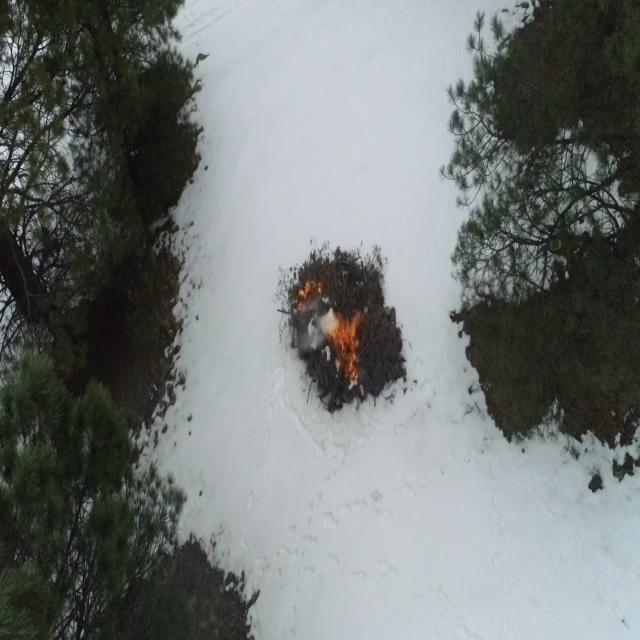fire: (334, 314, 362, 374), (294, 268, 319, 307)
